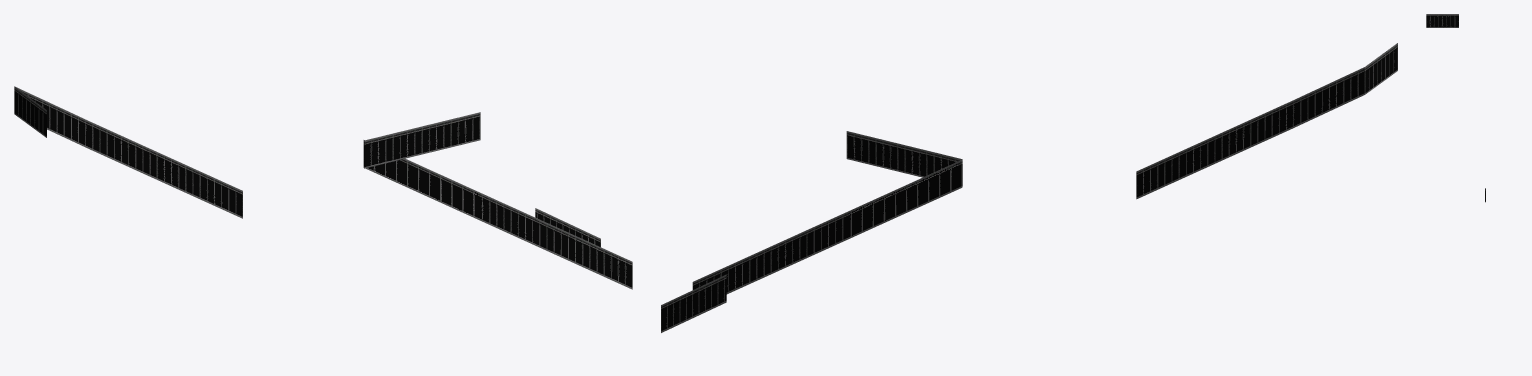
File: accorail_sfs.obj
The picture shows the model from 3 angles, left to right: view 1: azimuth 30°, elevation 25°; view 2: azimuth 150°, elevation 25°; view 3: azimuth 270°, elevation 25°; orthographic projection. The views are drawn at different scales.
Visible parts, largest first — view 1: accorail_SFS; view 2: accorail_SFS; view 3: accorail_SFS.
Boxes of the visible parts, <box> form: accorail_SFS: <box>14,86,632,289</box>; accorail_SFS: <box>661,43,1397,332</box>; accorail_SFS: <box>1426,14,1485,202</box>.
Size of the model in its own units: 28.79 by 16.24 by 7.07.
Materials: 1 (1 with a texture image).
